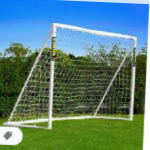goals: (4, 19, 138, 129)
